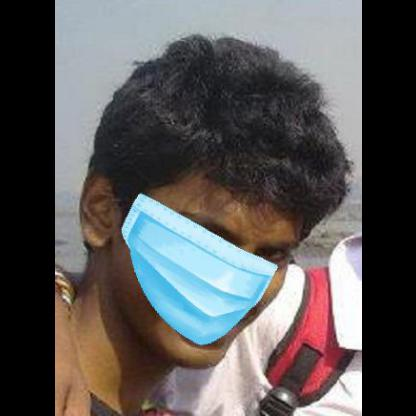Surgical Mask: (122, 141, 284, 365)
